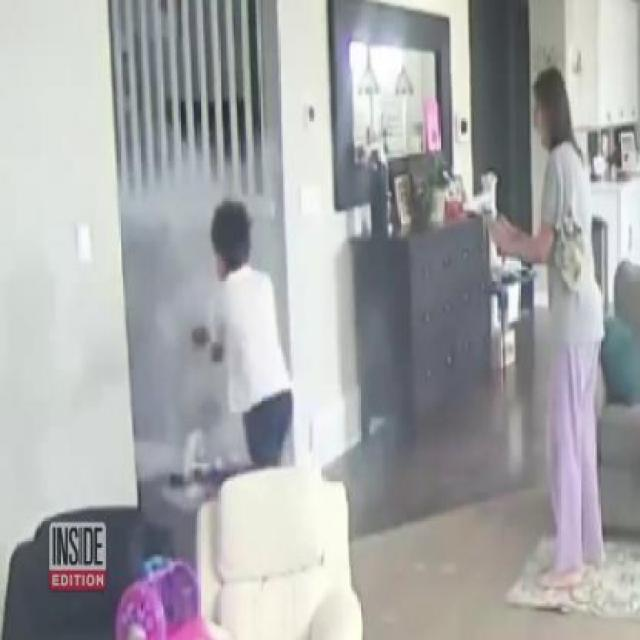smoke: (122, 143, 326, 452)
